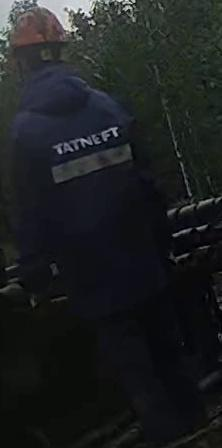gloves: (17, 275, 77, 319), (163, 241, 183, 278)
helmet: (7, 4, 72, 53)
vest: (5, 85, 169, 291)
